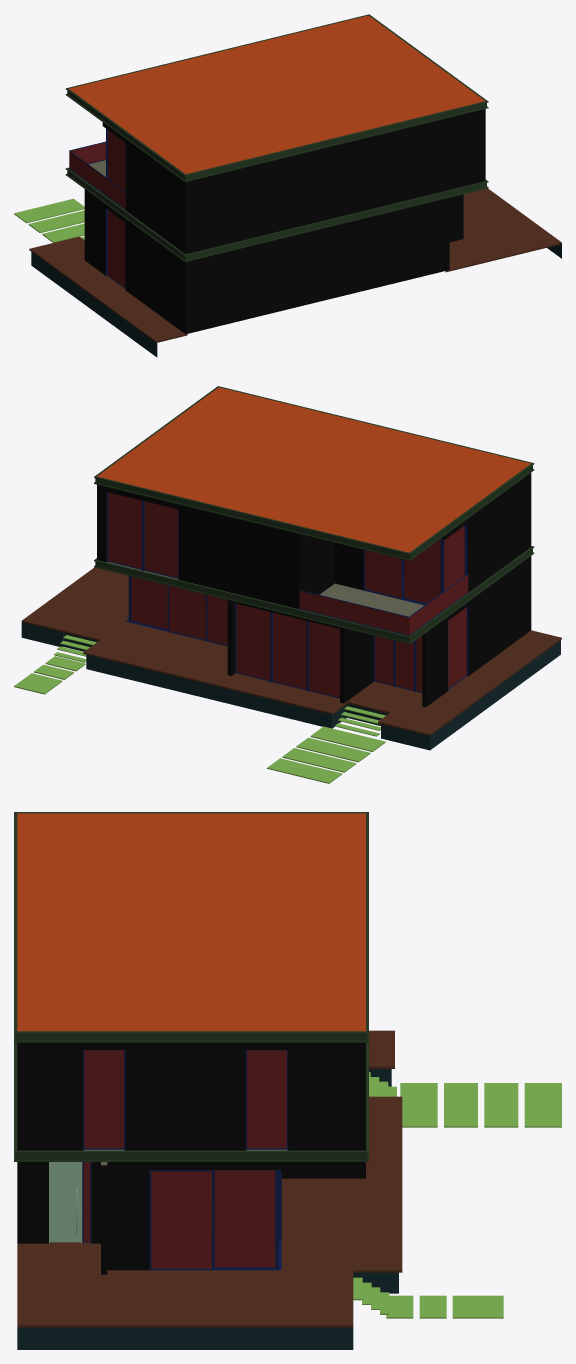
File: House_V2.fbx
3 renders of one model, top to bottom at view 1: azimuth 30°, elevation 25°; view 2: azimuth 150°, elevation 25°; view 3: azimuth 270°, elevation 25°, orthographic. The views are drawn at different scales.
Visible parts, largest first — view 1: Wall_Exterior, Roof, Floor_Exterior, Border, Window_Glass, Floor_Steps, Floor_Border, Window_Frame; view 2: Roof, Wall_Exterior, Window_Glass, Floor_Exterior, Border, Floor_Border, Floor_Steps, Window_Frame, Floor_Interior; view 3: Roof, Wall_Exterior, Floor_Exterior, Window_Glass, Border, Floor_Steps, Floor_Border, Window_Frame, Door_Wing.
Boxes of the visible parts, x1,y1,x2,y2 form: Wall_Exterior: (84,109,485,334); Roof: (69,15,485,174); Floor_Exterior: (29,188,561,342); Border: (65,14,488,262); Window_Glass: (69,130,125,287); Floor_Steps: (14,198,84,242); Floor_Border: (31,244,561,357); Window_Frame: (68,129,125,289); Roof: (97,387,530,552); Wall_Exterior: (97,473,531,707); Window_Glass: (108,492,468,697); Floor_Exterior: (21,567,561,735); Border: (94,386,534,644); Floor_Border: (21,622,560,750); Floor_Steps: (14,635,385,783); Window_Frame: (106,492,468,698); Floor_Interior: (107,562,423,616); Roof: (17,813,365,1031); Wall_Exterior: (17,1043,365,1274); Floor_Exterior: (17,1030,402,1327); Window_Glass: (83,1050,286,1268); Border: (14,812,368,1161); Floor_Steps: (353,1072,561,1318); Floor_Border: (17,1069,398,1349); Window_Frame: (82,1050,288,1270); Door_Wing: (50,1162,81,1242).
Size of the model in its own units: 867 by 360 by 681.
